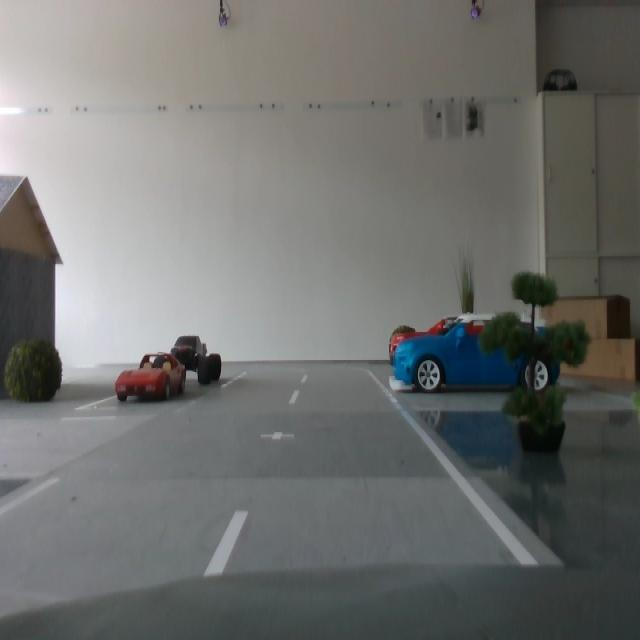car: (393, 313, 561, 393), (391, 317, 559, 389), (115, 352, 187, 402), (169, 334, 224, 388)
potted plant: (480, 270, 594, 451), (5, 334, 64, 407), (456, 250, 476, 353), (389, 322, 419, 364)
